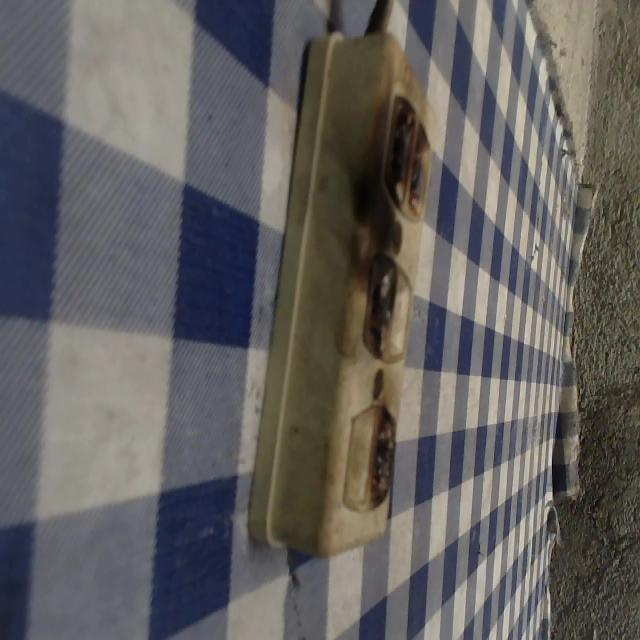-: (379, 82, 429, 218), (362, 250, 398, 354), (369, 405, 396, 507)
